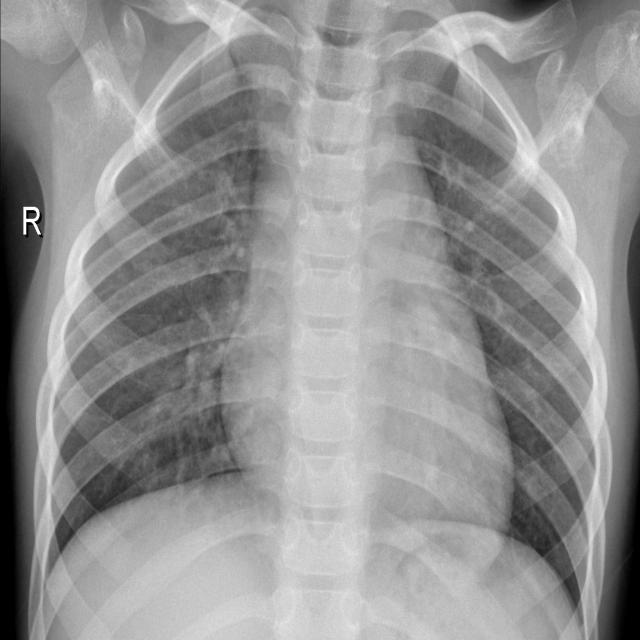no-pneumonia: (383, 35, 612, 638), (36, 34, 259, 600)
